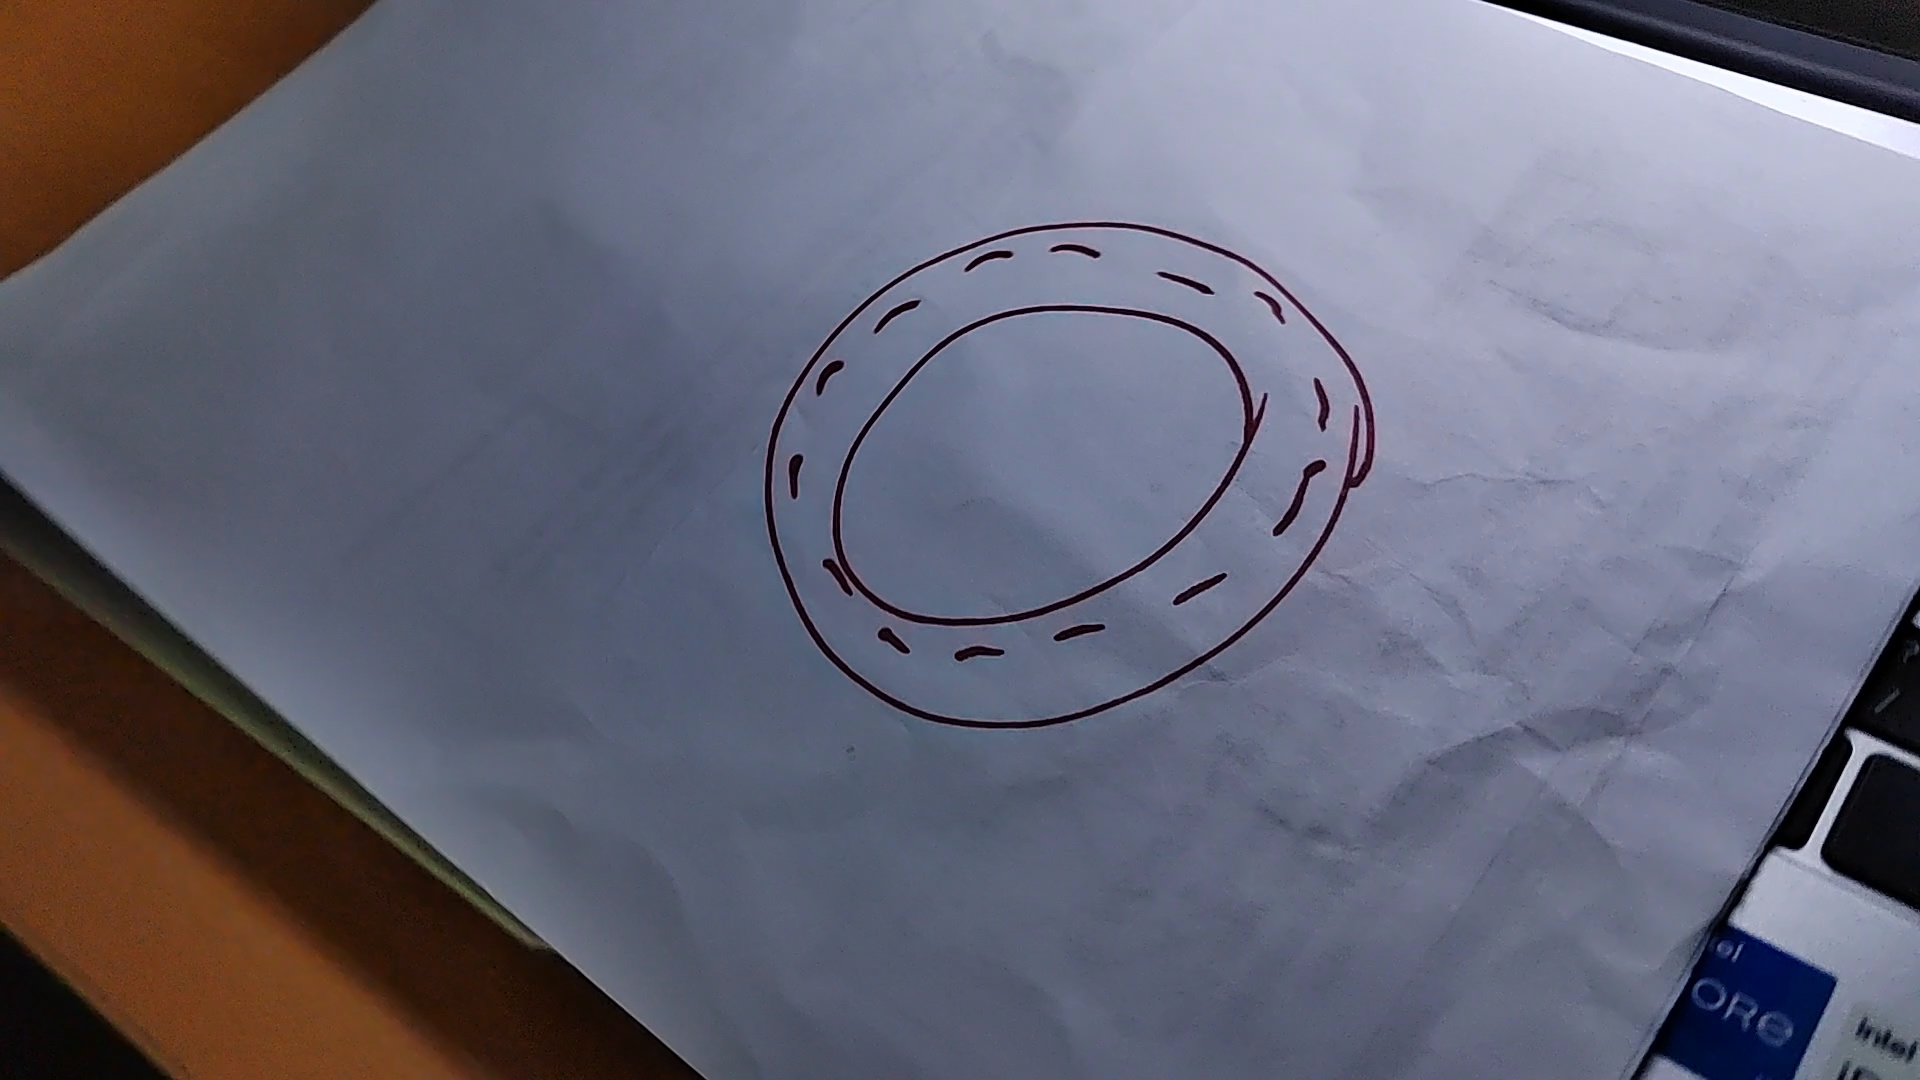circle: (766, 222, 1377, 731)
